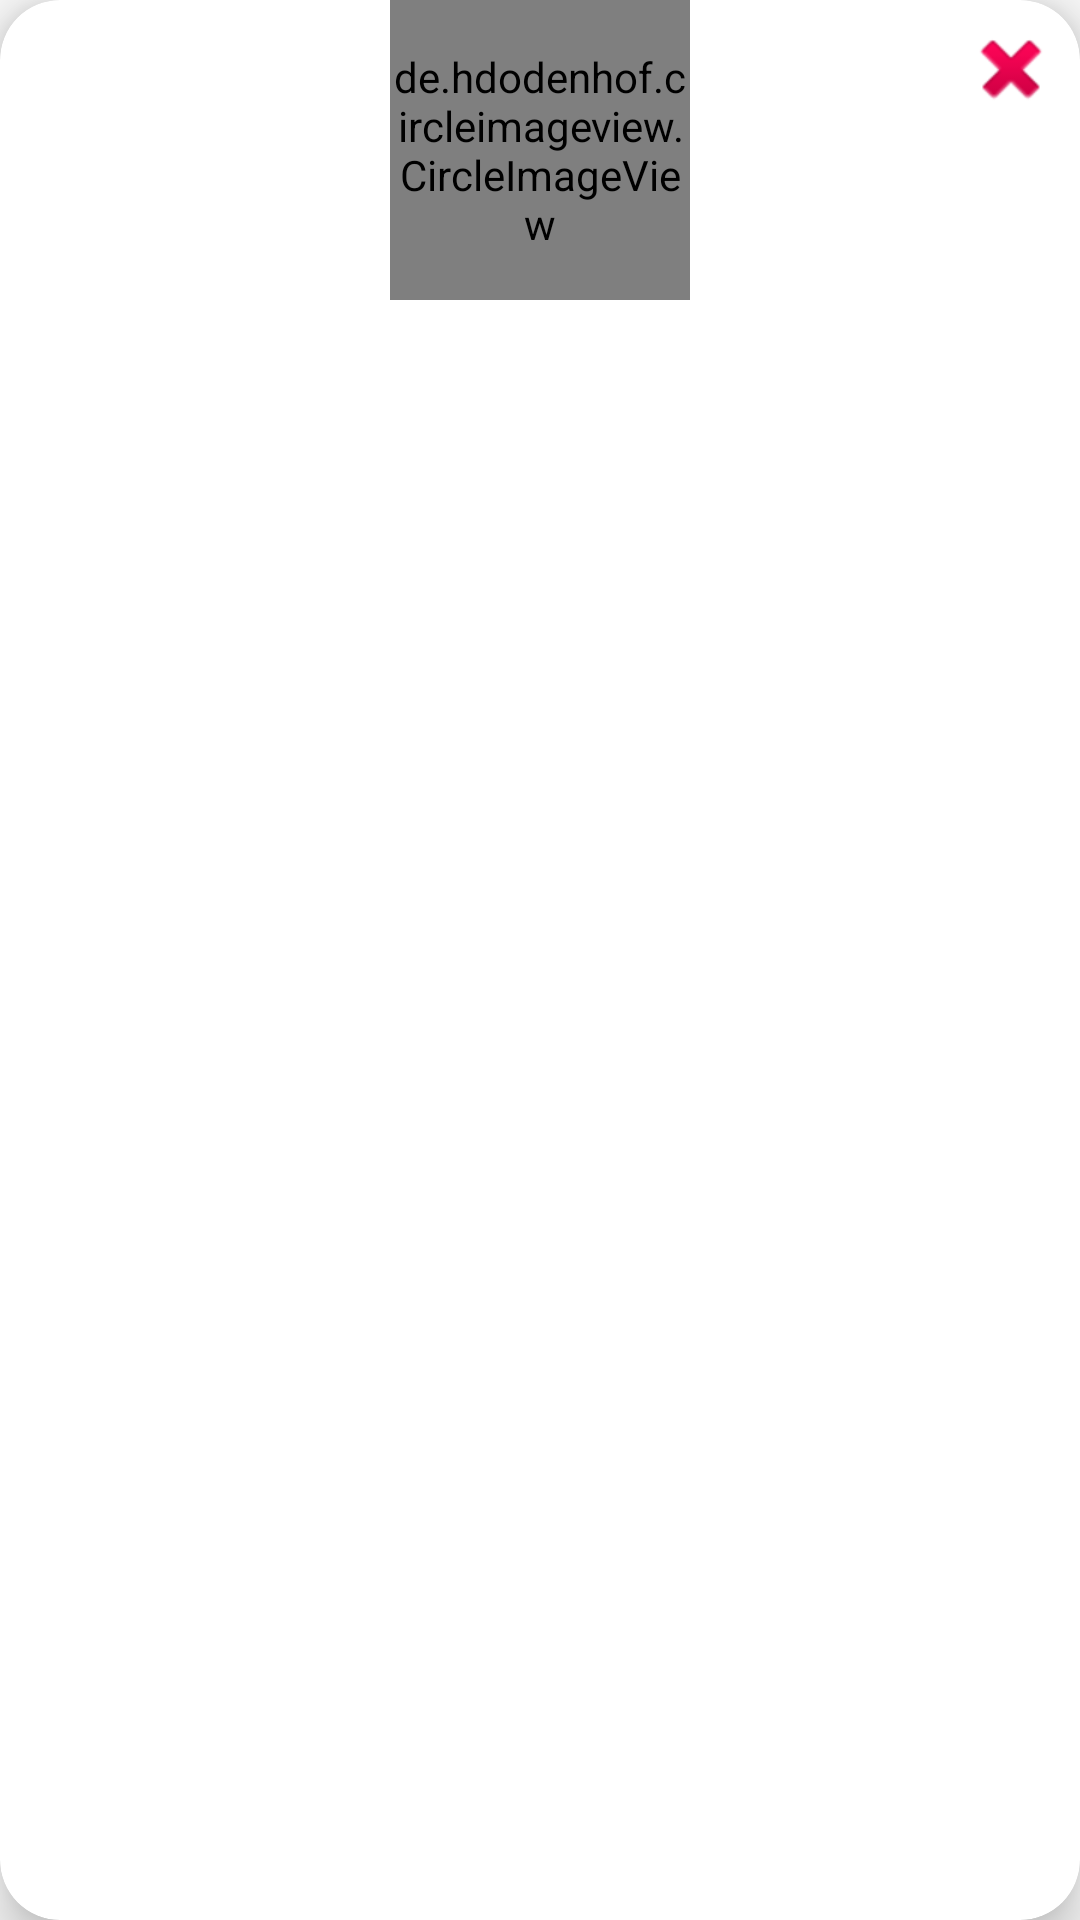

Locate icon controls on the screen. Image size 1080*1920, boxes as (x1, y1, x2, y2).
delete: (980, 40, 1042, 99)
